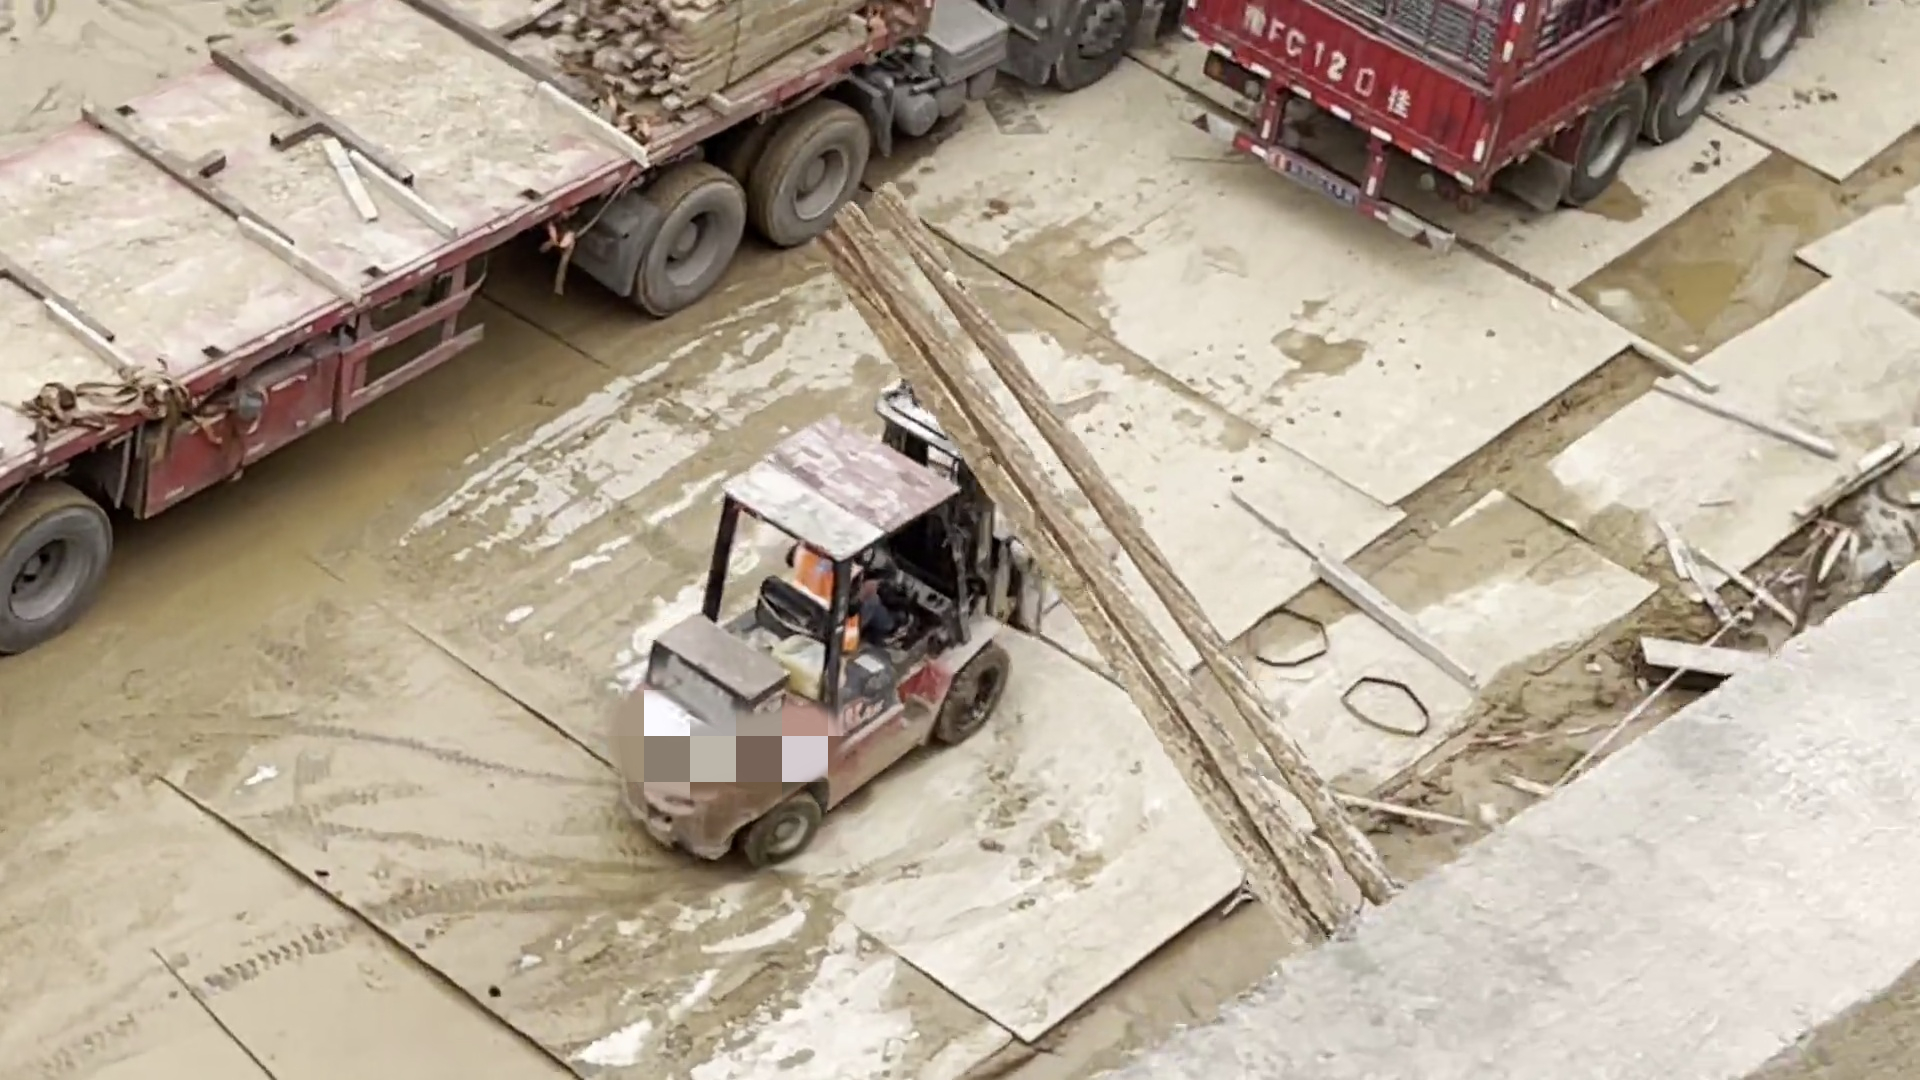person: (784, 541, 930, 663)
vest: (799, 551, 859, 650)
